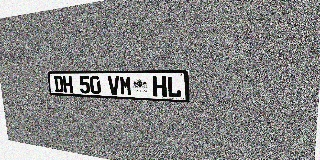plate: (47, 70, 189, 102)
